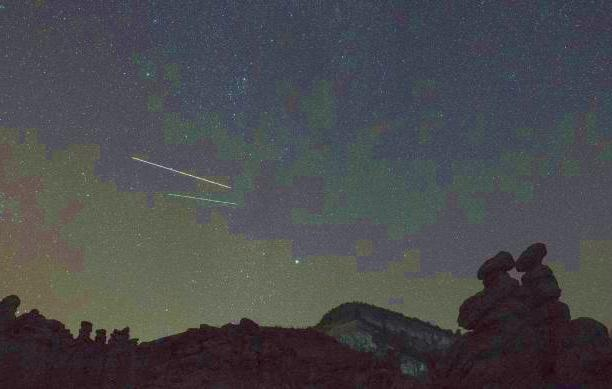meteorite: (124, 151, 235, 180), (170, 192, 261, 221)
